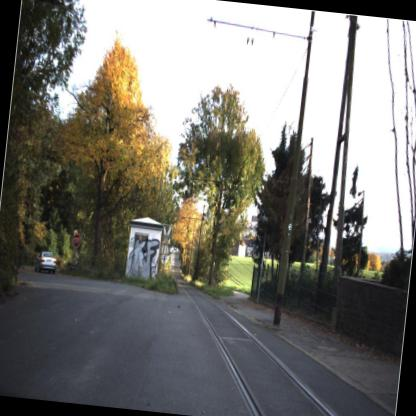other: (68, 228, 83, 252)
